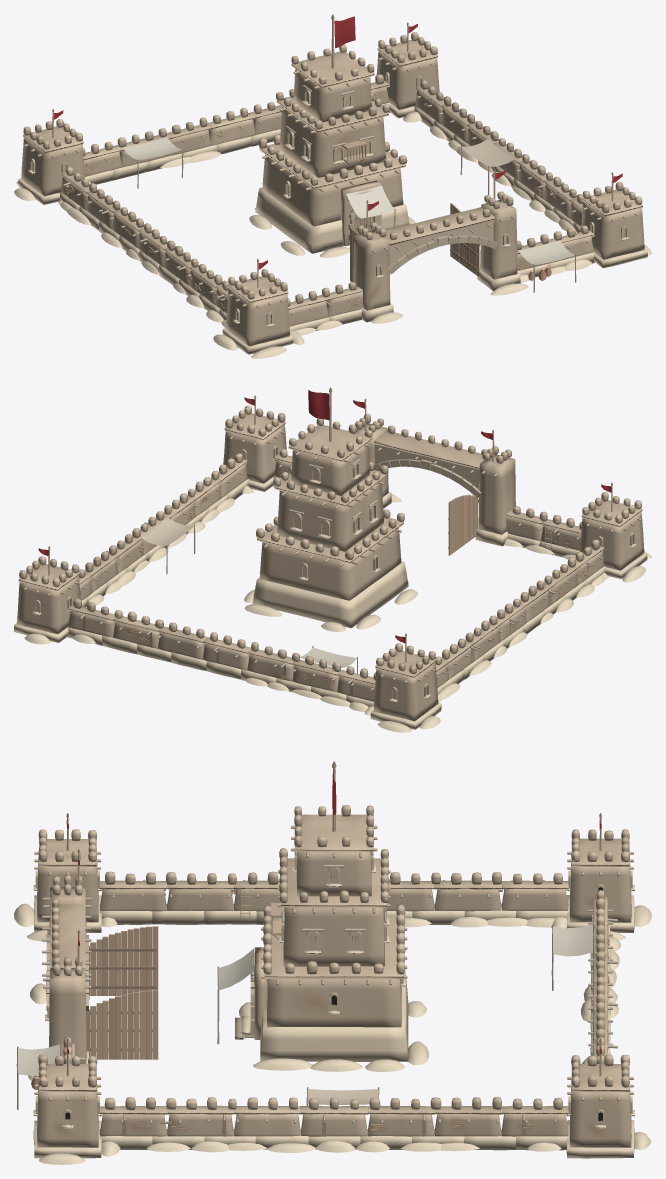
File: rival_kit.glb
3 renders of one model, top to bottom at view 1: azimuth 30°, elevation 25°; view 2: azimuth 150°, elevation 25°; view 3: azimuth 270°, elevation 25°, orthographic. The views are drawn at different scales.
Visible parts, largest first — view 1: rival_walls, rival_keep; view 2: rival_walls, rival_keep; view 3: rival_walls, rival_keep.
Boxes of the visible parts, x1,y1,x2,y2 form: rival_walls: (14, 22, 651, 358); rival_keep: (249, 14, 415, 257); rival_walls: (14, 395, 651, 732); rival_keep: (244, 387, 417, 631); rival_walls: (14, 813, 651, 1164); rival_keep: (217, 761, 429, 1071).
Bounding box in the file's own units: 28.53 × 13.56 × 28.74.
